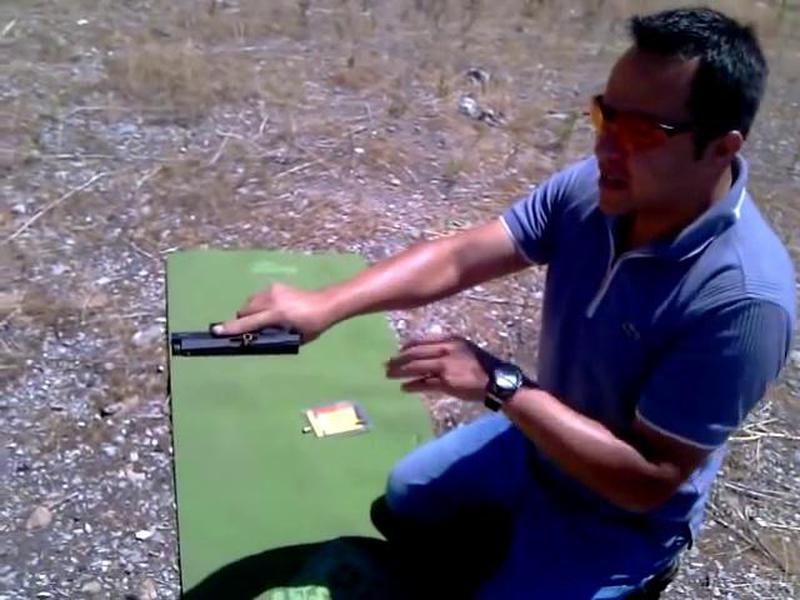Pistola: (164, 280, 317, 374)
